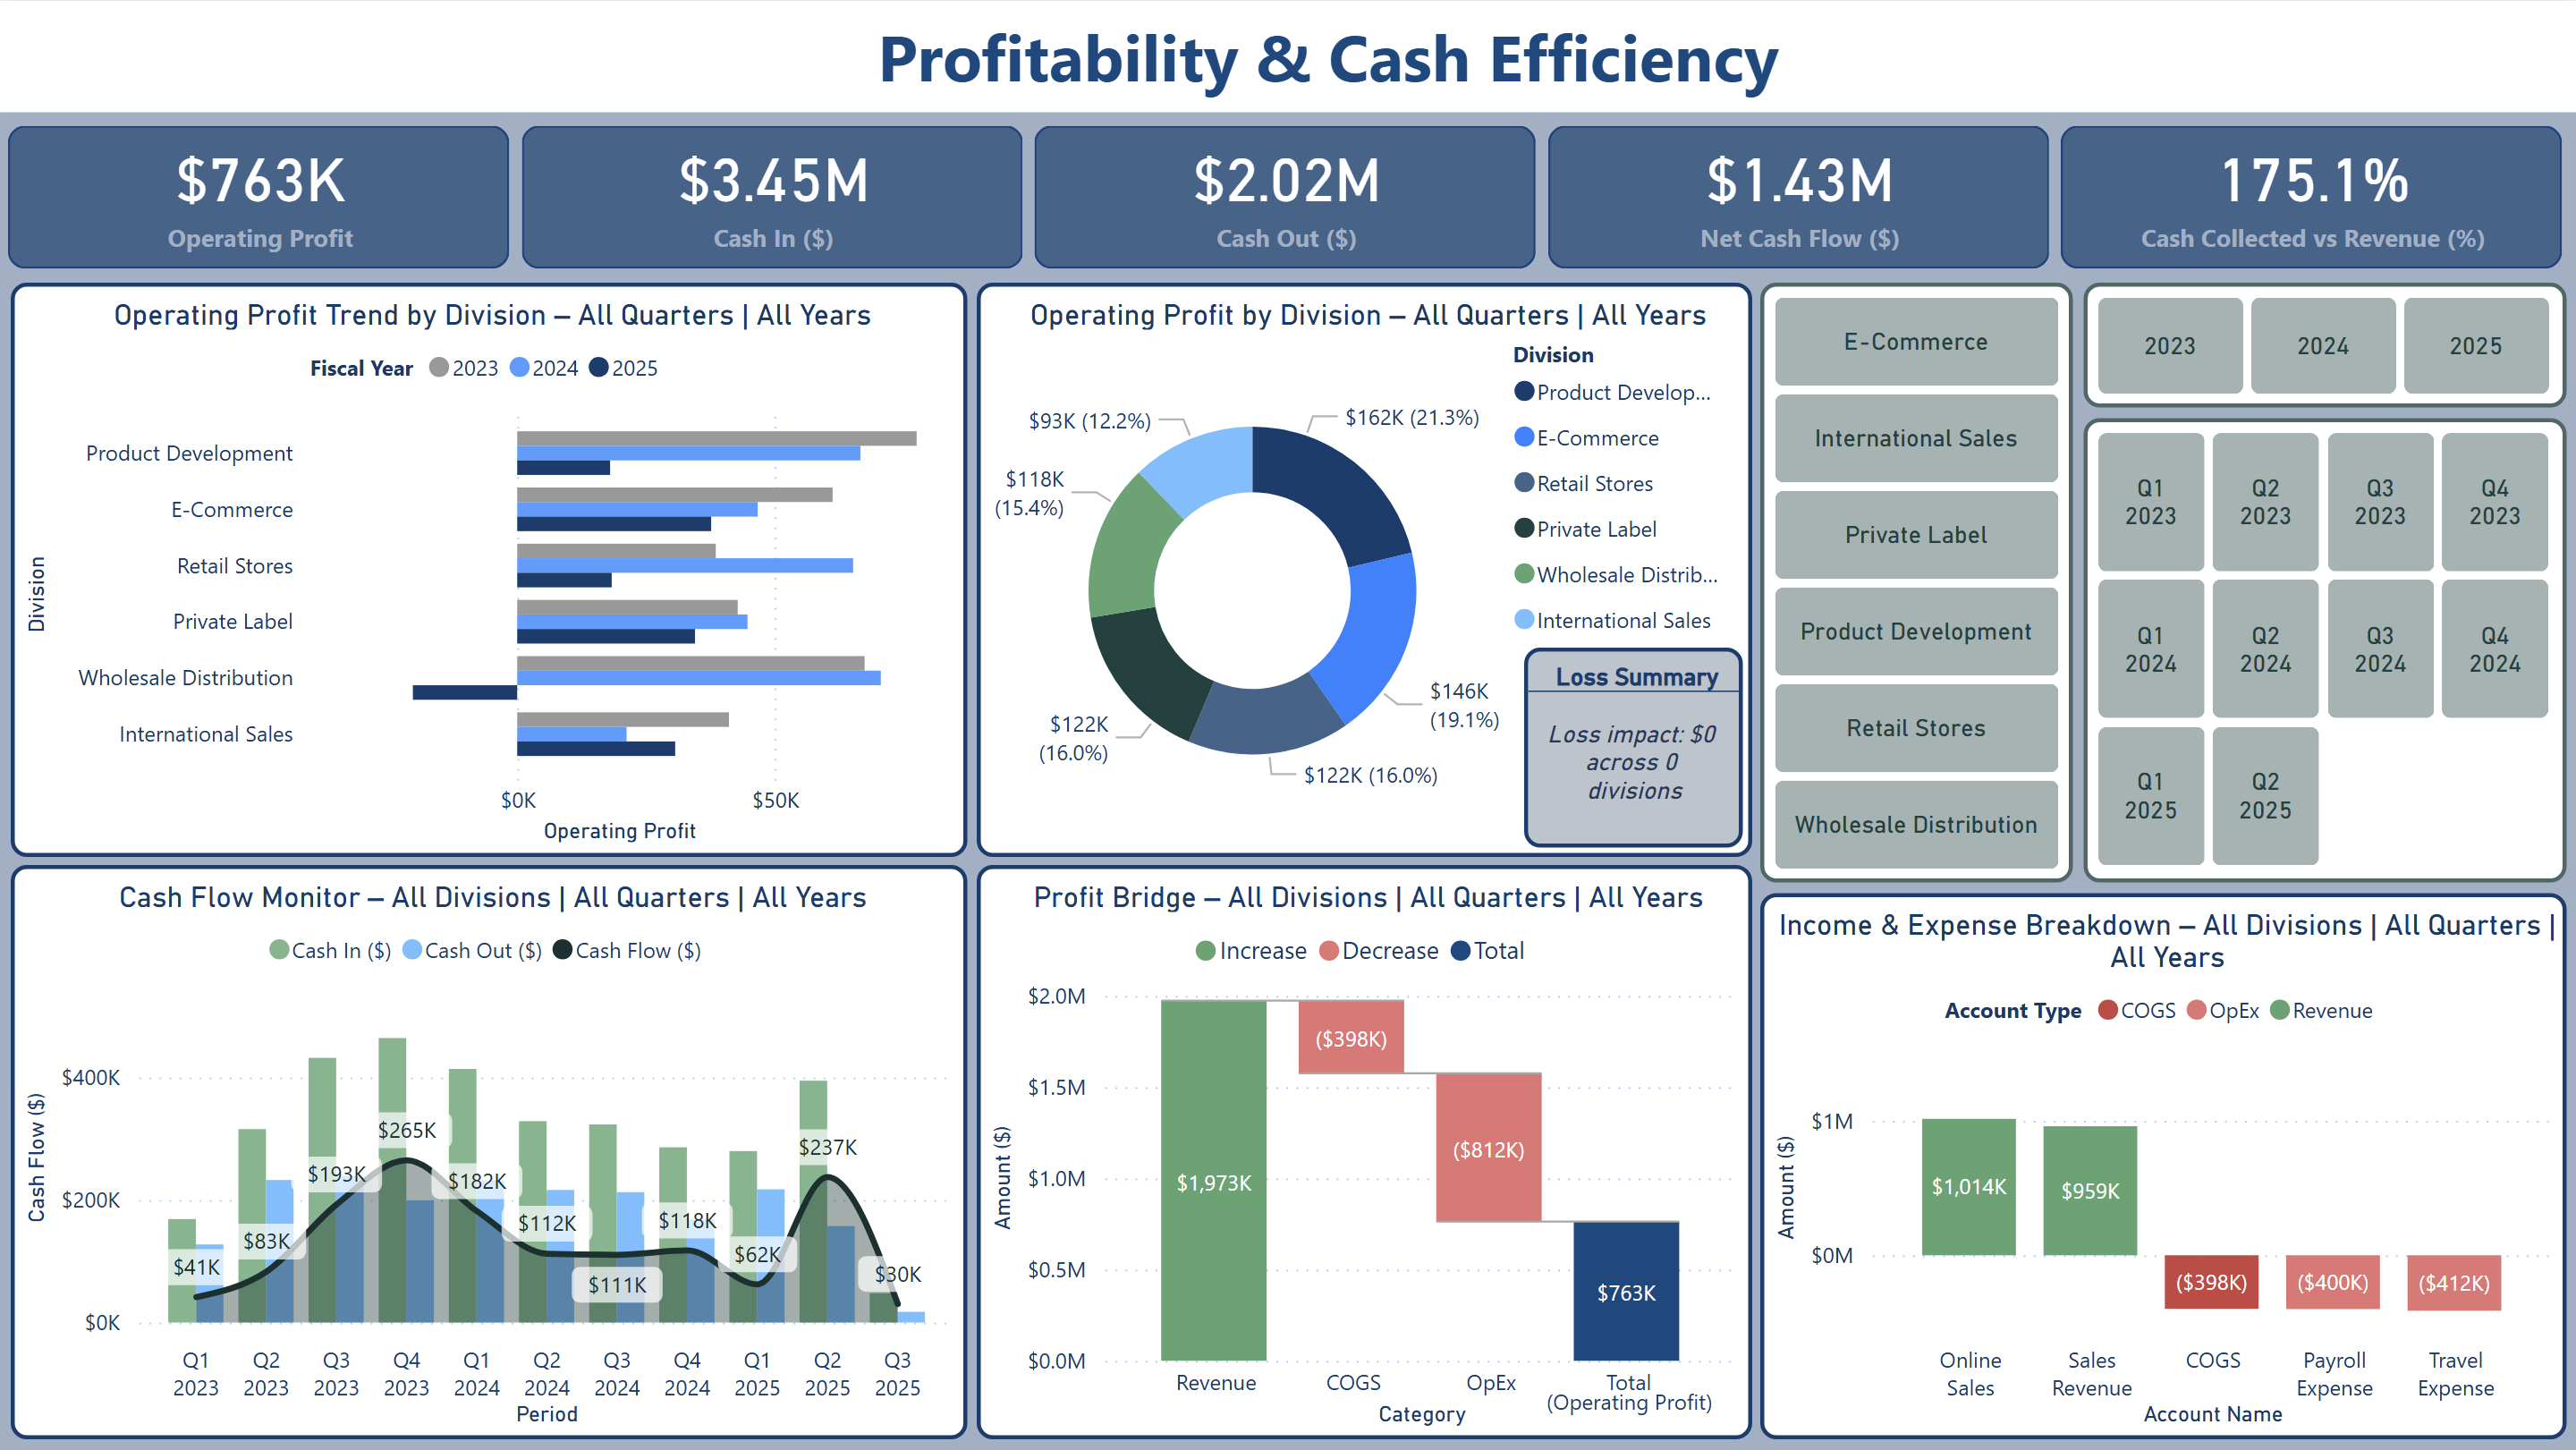

What the dashboard file says about the page in this screenshot:
{"tool":"powerbi","page":{"name":"Profitability & Cash Efficiency","canvas":[1280,720],"ordinal":1},"visuals":[{"type":"clusteredBarChart","fields":{"Y":["_Measures.Operating Profit"],"Series":["Dim_Date.FiscalYear"],"Category":["Dim_Dept.Dept"]},"box":[5.3,140,475,285],"z":0},{"type":"waterfallChart","fields":{"Category":["Dim_Steps.Step"],"Y":["_Measures.Waterfall Value"]},"box":[485.3,429.3,385.3,285.3],"z":1000},{"type":"textbox","box":[756.7,680,106,28],"z":2000},{"type":"advancedSlicerVisual","fields":{"Values":["Dim_Division.Division"]},"box":[874.7,140,155.3,298],"z":3000},{"type":"lineClusteredColumnComboChart","fields":{"Category":["Dim_Date.QuarterLabel","Dim_Date.StartOfMonth"],"Y":["_Measures.Cash In (AR - Received Date)","_Measures.Cash Out (AP - Paid Date)"],"Y2":["_Measures.Net Cash Flow"]},"box":[5.3,429,475.3,285.3],"z":4000},{"type":"textbox","box":[0,0,1280,55],"z":5000},{"type":"donutChart","fields":{"Category":["Dim_Dept.Dept"],"Y":["_Measures.Operating Profit (Positive)"]},"box":[485,140,385.3,285],"z":6000},{"type":"card","title":"Loss Summary","fields":{"Values":["_Measures.Loss Summary"]},"box":[757,321,108.7,99.3],"z":7000},{"type":"columnChart","fields":{"Category":["Fact_GL.AccountName"],"Y":["Sum(Fact_GL.Amount)"],"Series":["Fact_GL.AccountType"]},"box":[874.7,443.3,400.7,271.3],"z":8000},{"type":"cardVisual","fields":{"Data":["_Measures.Operating Profit","_Measures.Cash In $ (Display)","_Measures.Cash Out $ (Display)","_Measures.Net Cash Flow (Display)","_Measures.Cash Realization of Revenue %"]},"box":[0,60,1280,75],"z":9000},{"type":"advancedSlicerVisual","fields":{"Values":["Dim_Date.FiscalYear"]},"box":[1035,140,240,62],"z":10000},{"type":"advancedSlicerVisual","fields":{"Values":["Dim_Date.QuarterLabel"]},"box":[1035.3,207.3,240,230.7],"z":11000}]}

Visuals, with their boxes in screenshot pixels (x1, y1, x2, y2), scaled from the page's 1280x720 canvas onto the 2576x1450 screenshot:
clusteredBarChart - _Measures.Operating Profit x Dim_Date.FiscalYear: bbox=(11, 282, 967, 856)
waterfallChart - Dim_Steps.Step x _Measures.Waterfall Value: bbox=(977, 865, 1752, 1439)
textbox: bbox=(1523, 1369, 1736, 1426)
advancedSlicerVisual - Dim_Division.Division: bbox=(1760, 282, 2073, 882)
lineClusteredColumnComboChart - Dim_Date.QuarterLabel x Dim_Date.StartOfMonth: bbox=(11, 864, 967, 1438)
textbox: bbox=(0, 0, 2575, 111)
donutChart - Dim_Dept.Dept x _Measures.Operating Profit (Positive): bbox=(976, 282, 1751, 856)
"Loss Summary" card: bbox=(1523, 647, 1742, 846)
columnChart - Fact_GL.AccountName x Sum(Fact_GL.Amount): bbox=(1760, 893, 2567, 1439)
cardVisual - _Measures.Operating Profit x _Measures.Cash In $ (Display): bbox=(0, 121, 2575, 272)
advancedSlicerVisual - Dim_Date.FiscalYear: bbox=(2083, 282, 2566, 407)
advancedSlicerVisual - Dim_Date.QuarterLabel: bbox=(2083, 418, 2566, 882)
